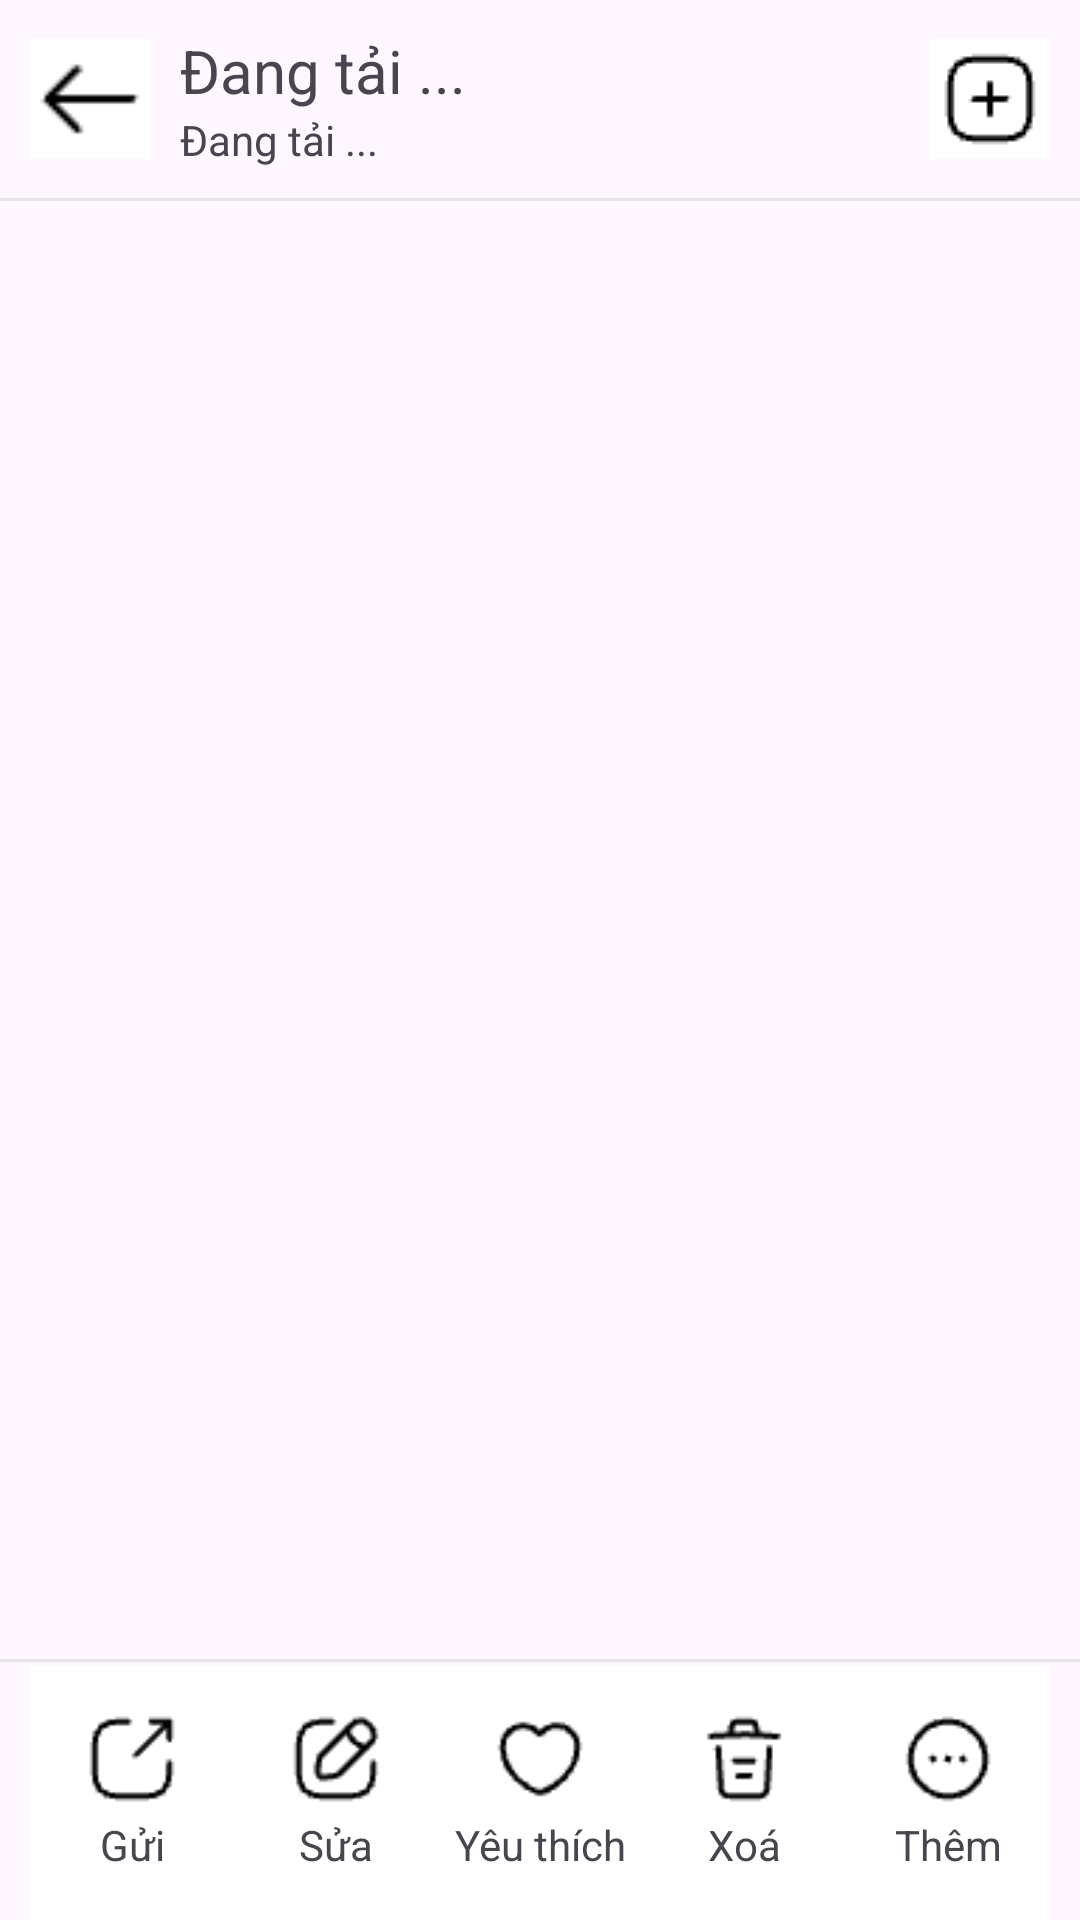

Locate icon controls on the screen. Image size 1080px x 1920px, boxes as [left=x1, top=y1, right=x2, bottom=y2].
add square: [left=945, top=54, right=1035, bottom=144]
back: [left=41, top=64, right=139, bottom=134]
